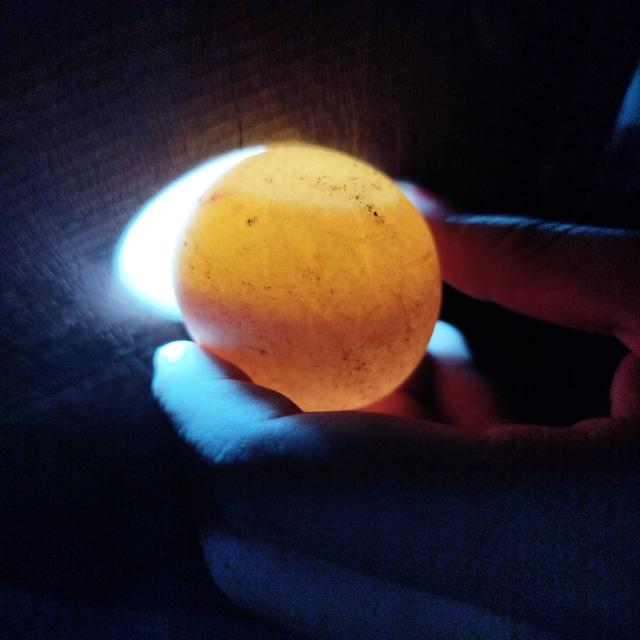Camara de Ar: (223, 147, 404, 204)
Gema Quebrada: (177, 273, 441, 412)
